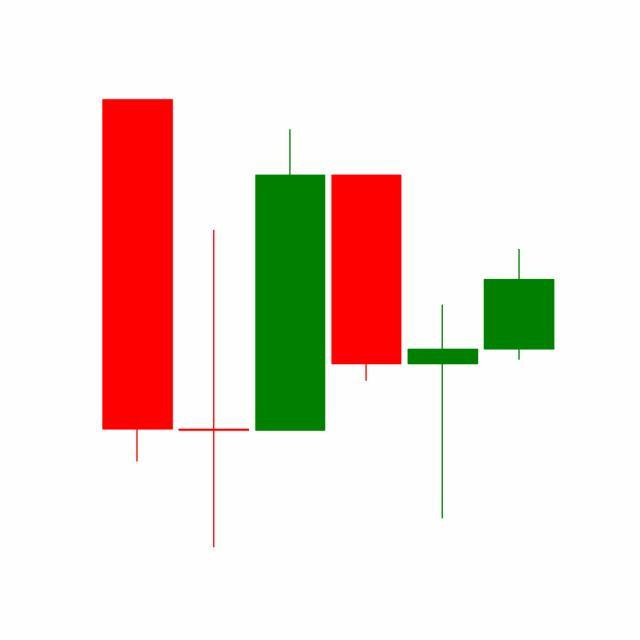Spinning Top: (404, 303, 482, 523)
